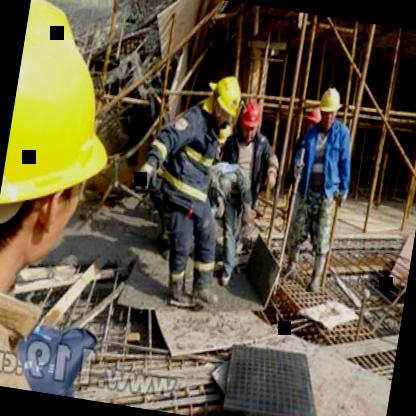helmet: (0, 0, 134, 320), (204, 72, 249, 130), (313, 83, 344, 130), (234, 94, 263, 140)
